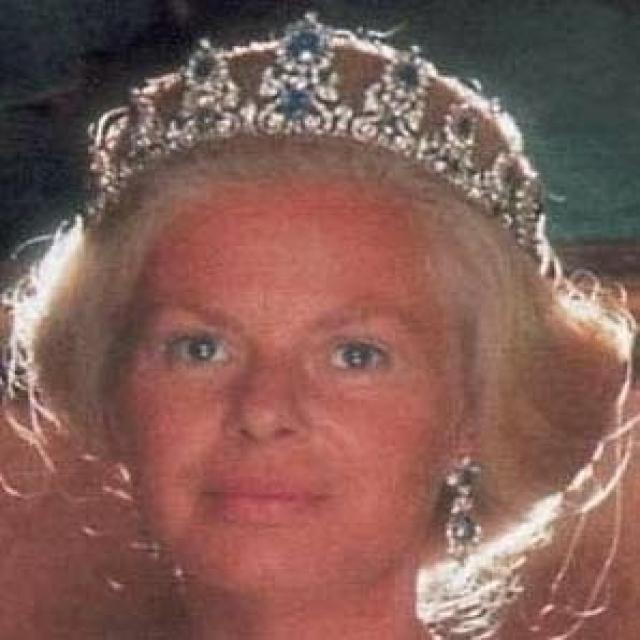Earring: (432, 438, 494, 583)
